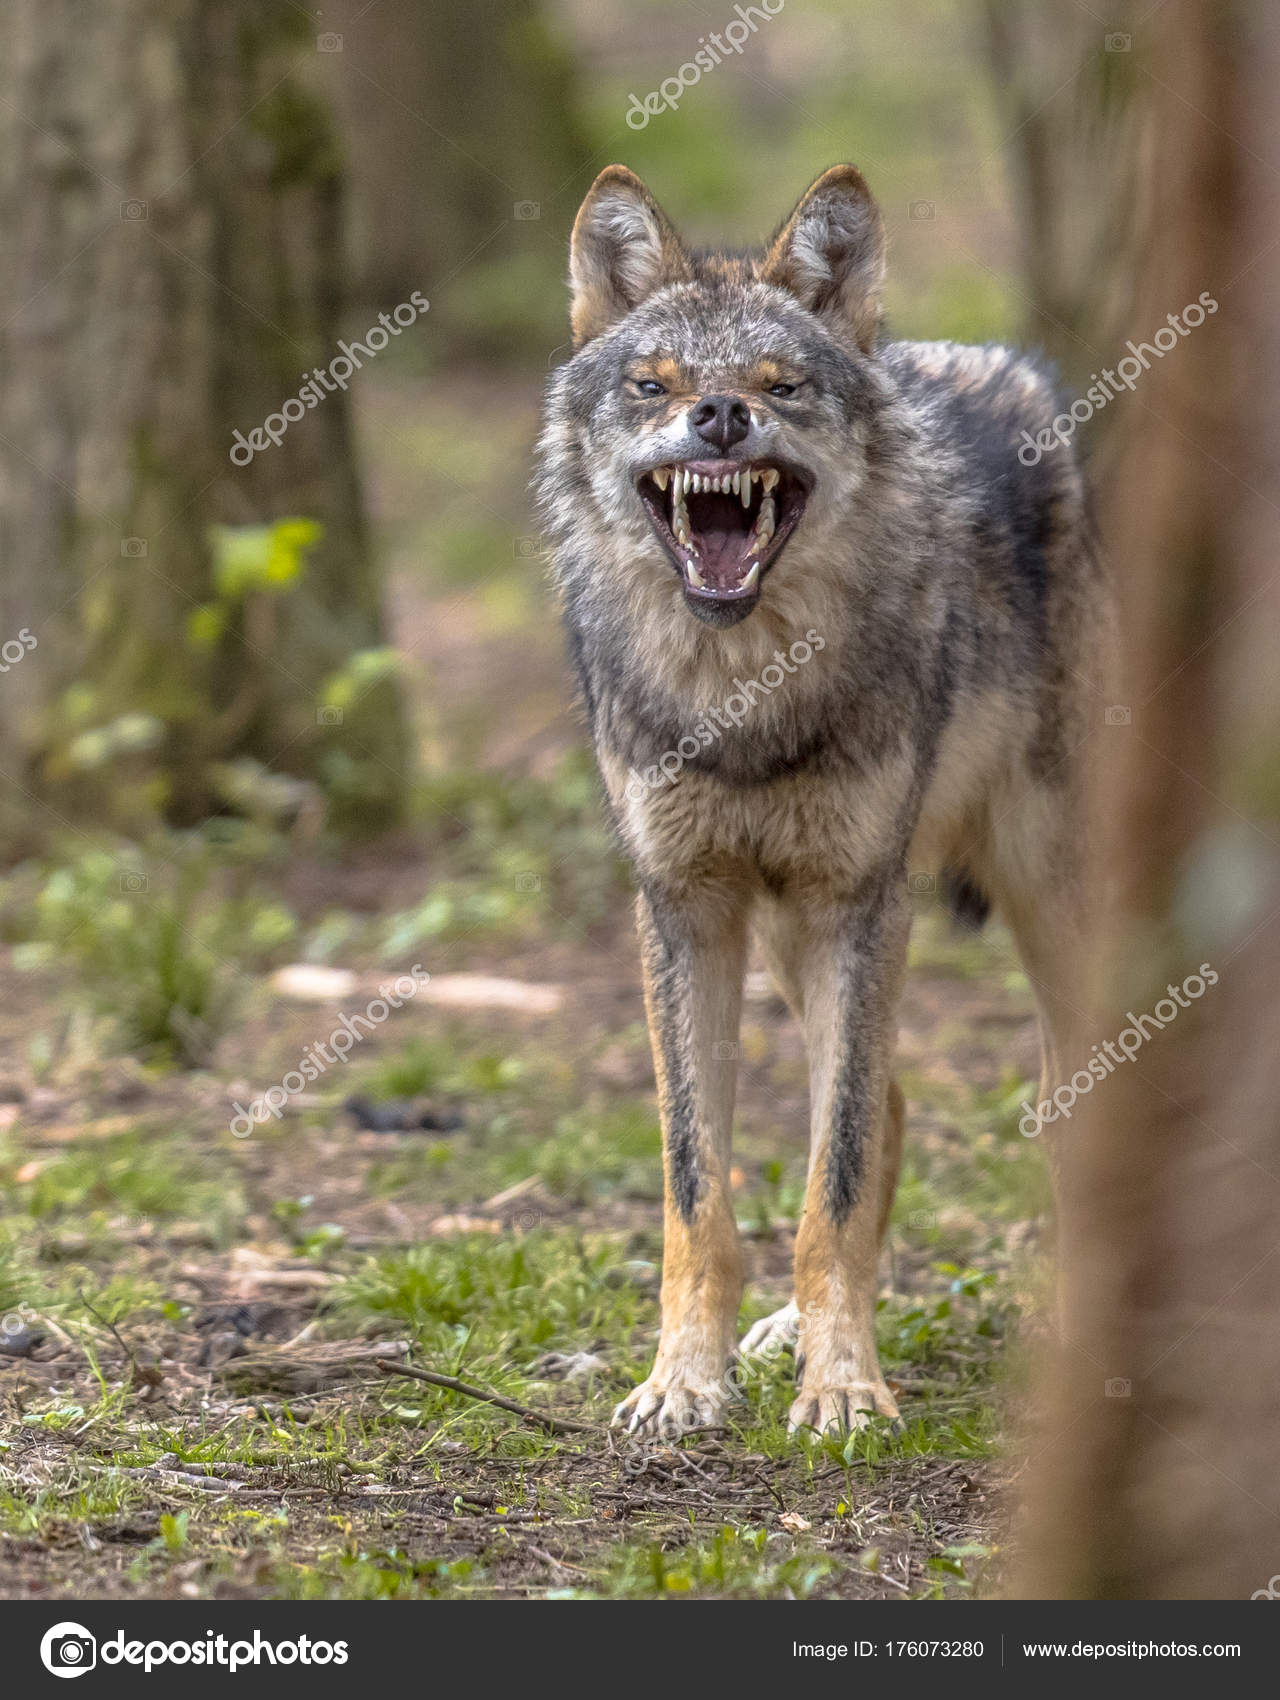Lobo: (570, 146, 1094, 1447)
